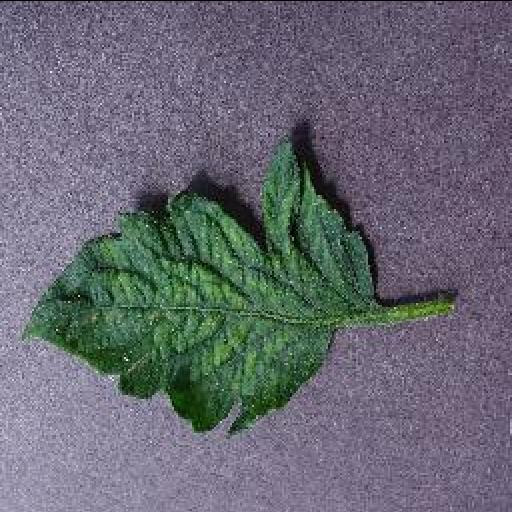disease_tomato: (18, 134, 376, 438)
